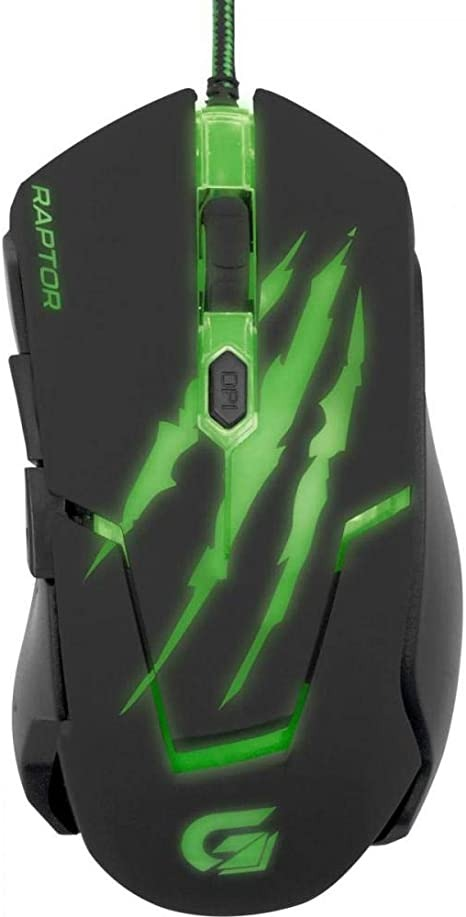mouse: (6, 75, 464, 913)
